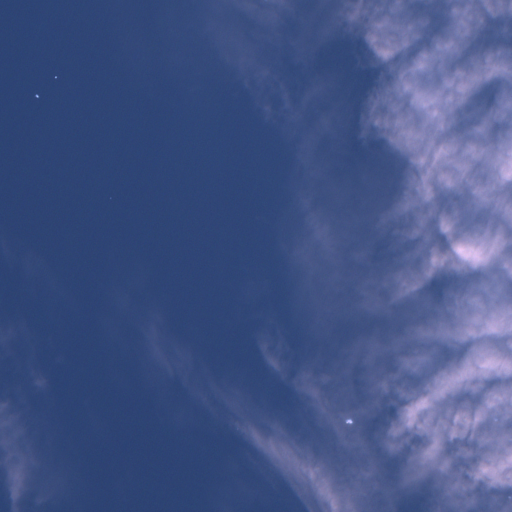Iceberg: (346, 419, 352, 423), (35, 94, 38, 97), (55, 76, 56, 78), (110, 197, 111, 198)
